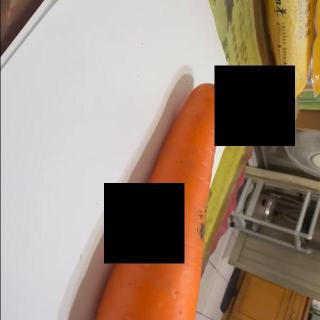carrot: (90, 82, 226, 320)
